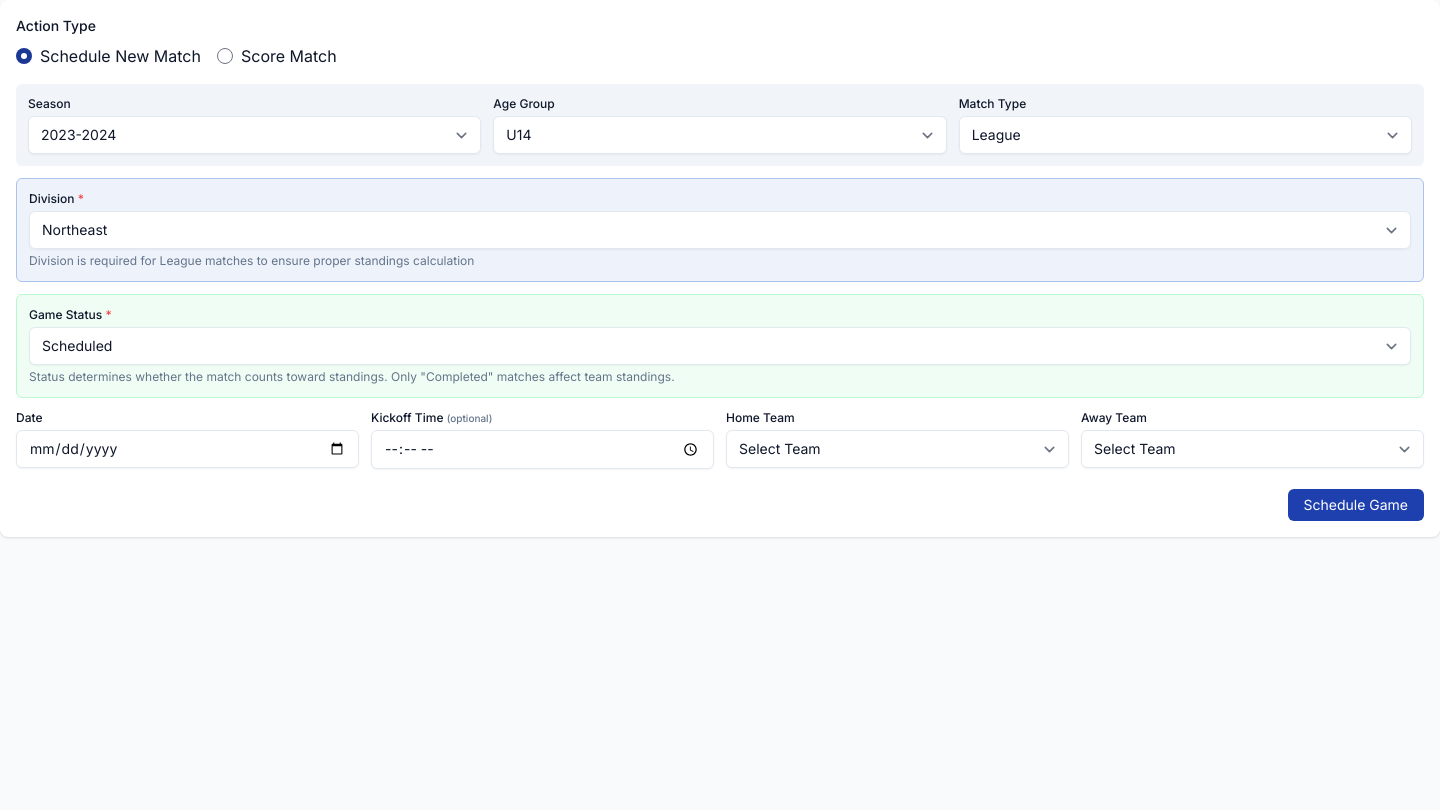
MatchForm › form validation › shows error when home and away teams are the same
The image size is (1440, 810).
# Set same team for both
Select "Blue Stars U14" in the dropdown with test id "home-team-select" at (898, 449), box [726,430,1069,468]
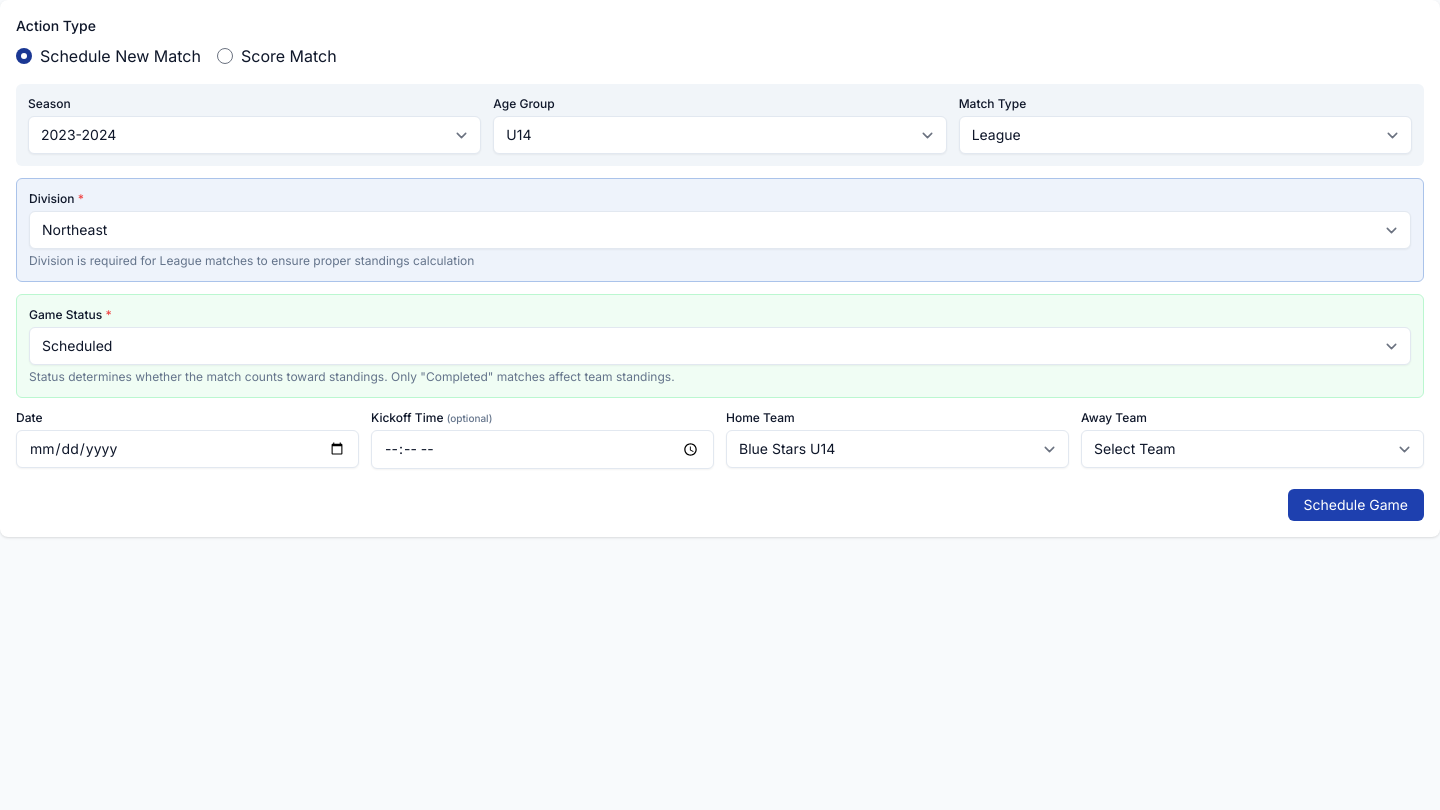
Select "Blue Stars U14" in the dropdown with test id "away-team-select" at (1252, 449), box [1081,430,1424,468]
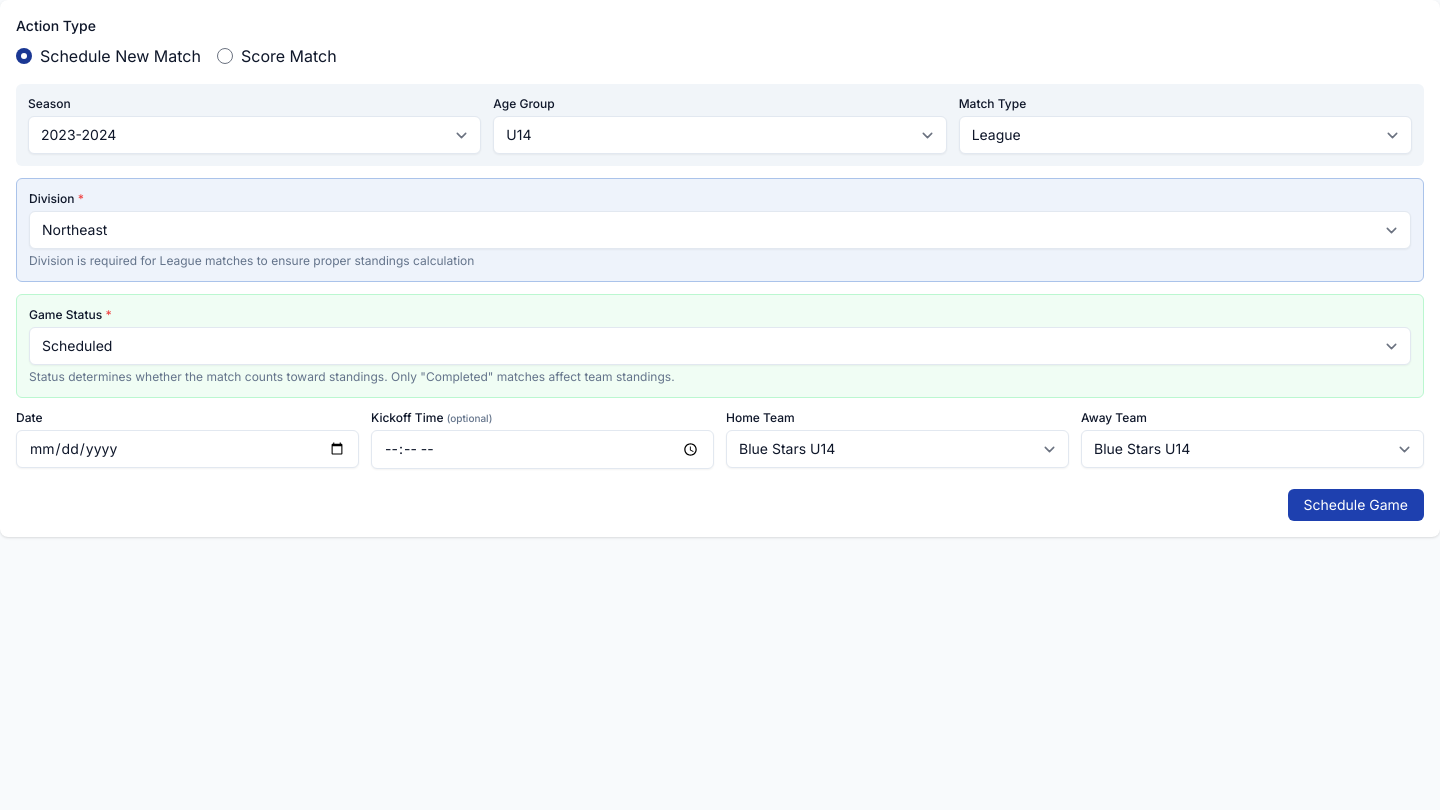
Type "2025-01-15" into the date field with test id "date-input" at (188, 449), box [16,430,359,468]
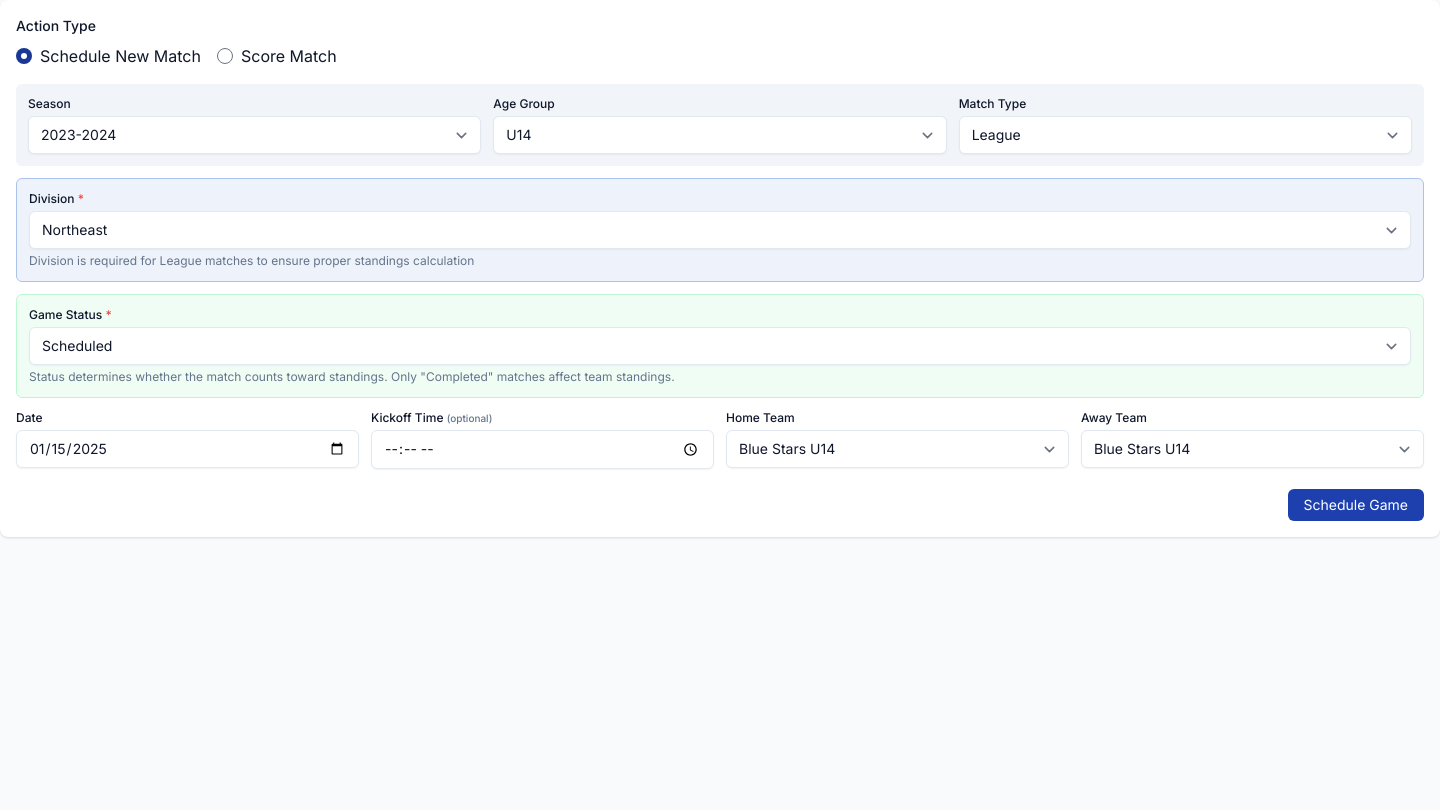
Submit the form, box [16,84,1424,521]
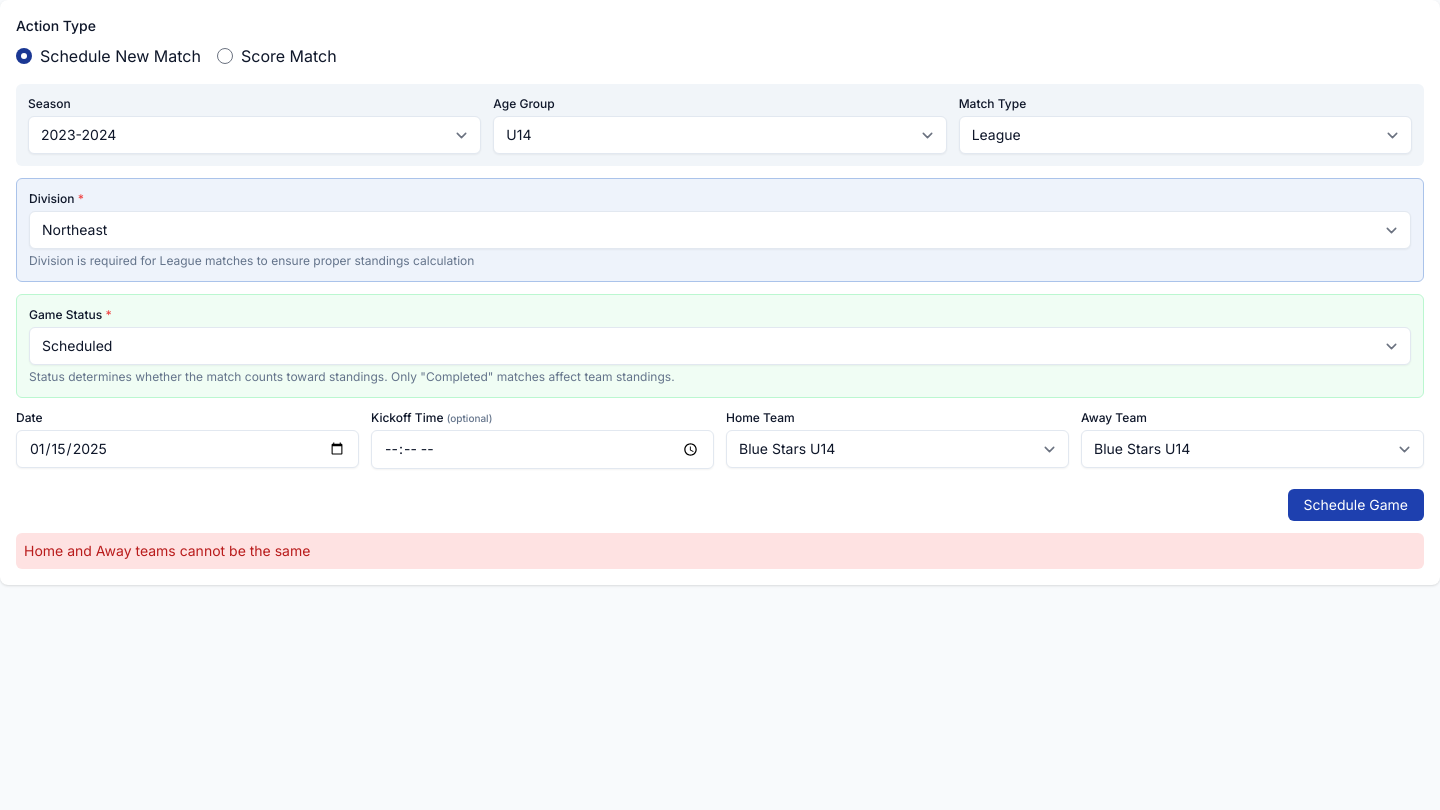
Check: the text "Home and Away teams cannot be the same" is shown, box [16,533,1424,569]
Check: the text "same" is shown, box [24,542,310,559]
